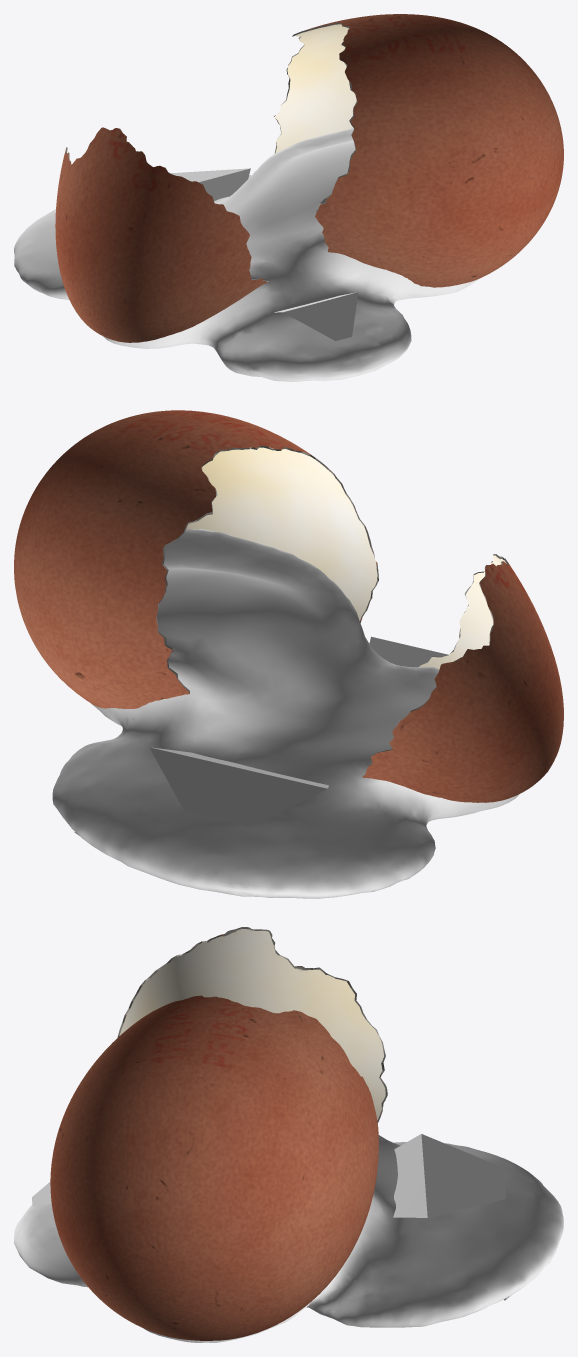
File: broken_egg.fbx
3 views of the same model, one above another, from view 1: azimuth 30°, elevation 25°; view 2: azimuth 150°, elevation 25°; view 3: azimuth 270°, elevation 25° (orthographic). The views are drawn at different scales.
Visible parts, largest first — view 1: obj2, obj7, obj5, obj3, obj9, obj1; view 2: obj7, obj2, obj5, obj3, obj9, obj6, obj1; view 3: obj2, obj7, obj6, obj9, obj4.
Boxes of the visible parts, x1,y1,x2,y2 form: obj2: (307, 14, 563, 287); obj7: (14, 127, 480, 381); obj5: (55, 127, 269, 342); obj3: (274, 24, 356, 248); obj9: (171, 168, 358, 340); obj1: (274, 23, 357, 247); obj7: (52, 528, 519, 898); obj2: (14, 410, 376, 708); obj5: (362, 560, 563, 802); obj3: (186, 447, 377, 620); obj9: (149, 636, 448, 826); obj6: (418, 555, 506, 669); obj1: (156, 445, 378, 693); obj2: (50, 995, 378, 1340); obj7: (14, 1135, 563, 1342); obj6: (119, 929, 385, 1120); obj9: (32, 1134, 505, 1217); obj4: (117, 927, 387, 1123).
Bounding box in the file's own units: 37794 × 20097 × 33991.
Materials: 7 (2 with a texture image).
